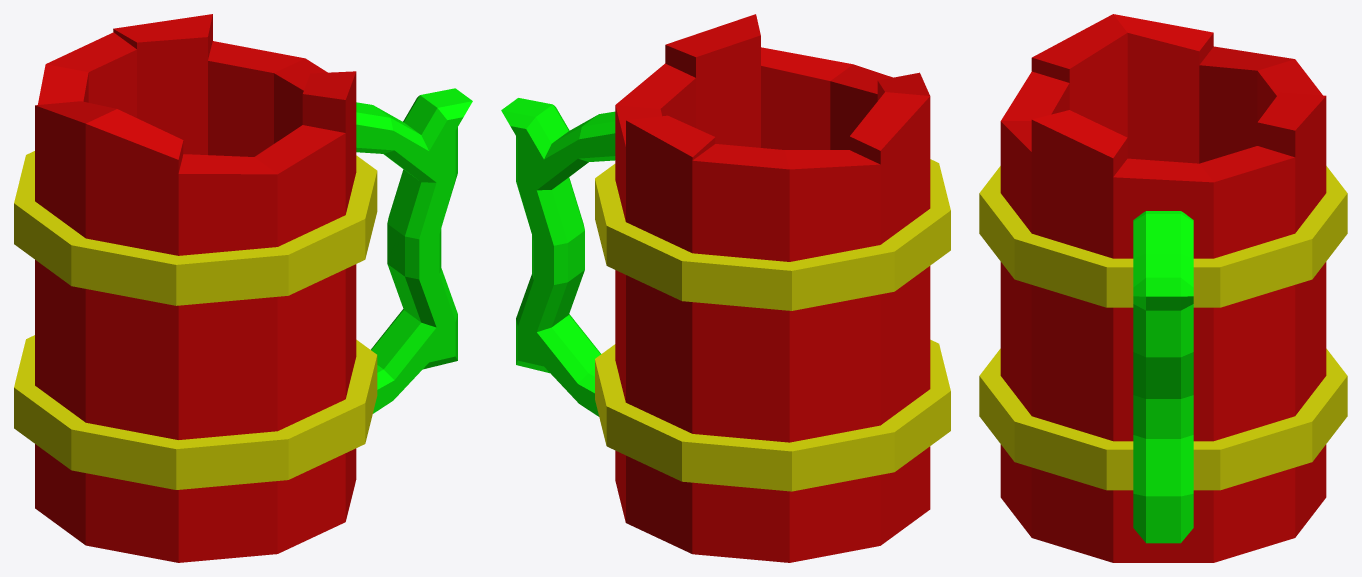
File: Abbie - DrinkingCup.fbx
The picture shows the model from 3 angles, left to right: view 1: azimuth 30°, elevation 25°; view 2: azimuth 150°, elevation 25°; view 3: azimuth 270°, elevation 25°; orthographic projection. The views are drawn at different scales.
Visible parts, largest first — view 1: bigCup_LP; view 2: bigCup_LP; view 3: bigCup_LP.
Part boxes in pixels (left/top/right/bottom): bigCup_LP: left=14, top=14, right=472, bottom=562; bigCup_LP: left=501, top=14, right=950, bottom=562; bigCup_LP: left=979, top=14, right=1347, bottom=562.
Size of the model in its own units: 10.77 by 10.31 by 8.22.
